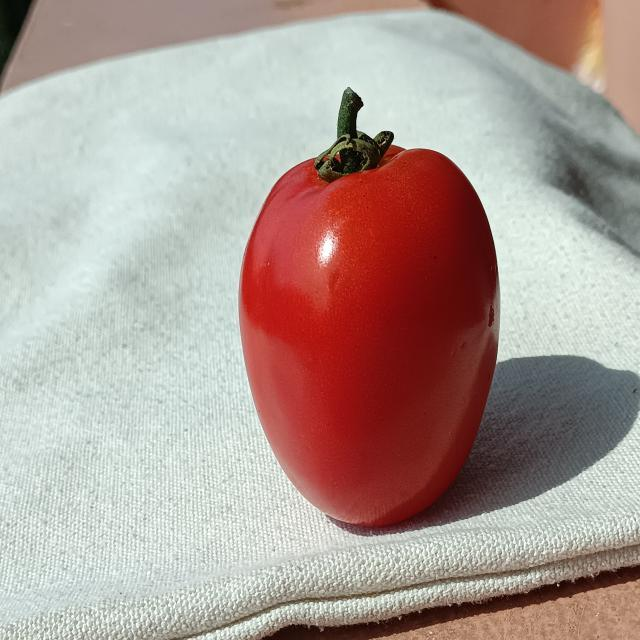Masak: (193, 114, 531, 531)
